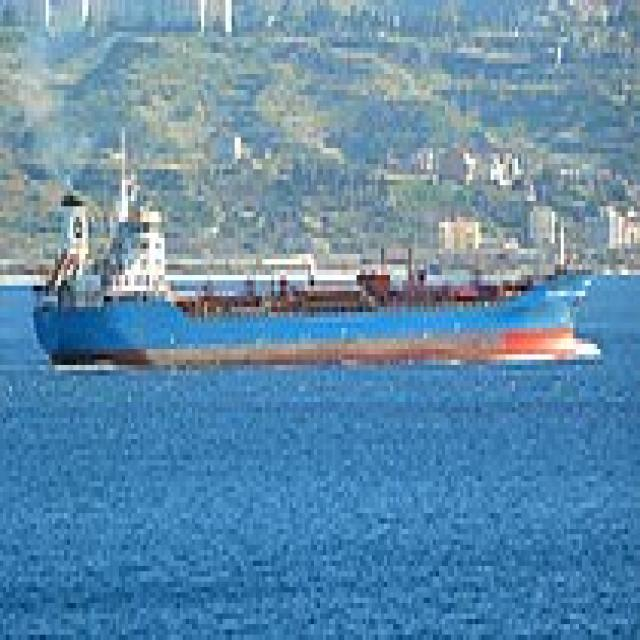Tanker: (28, 122, 592, 360)
